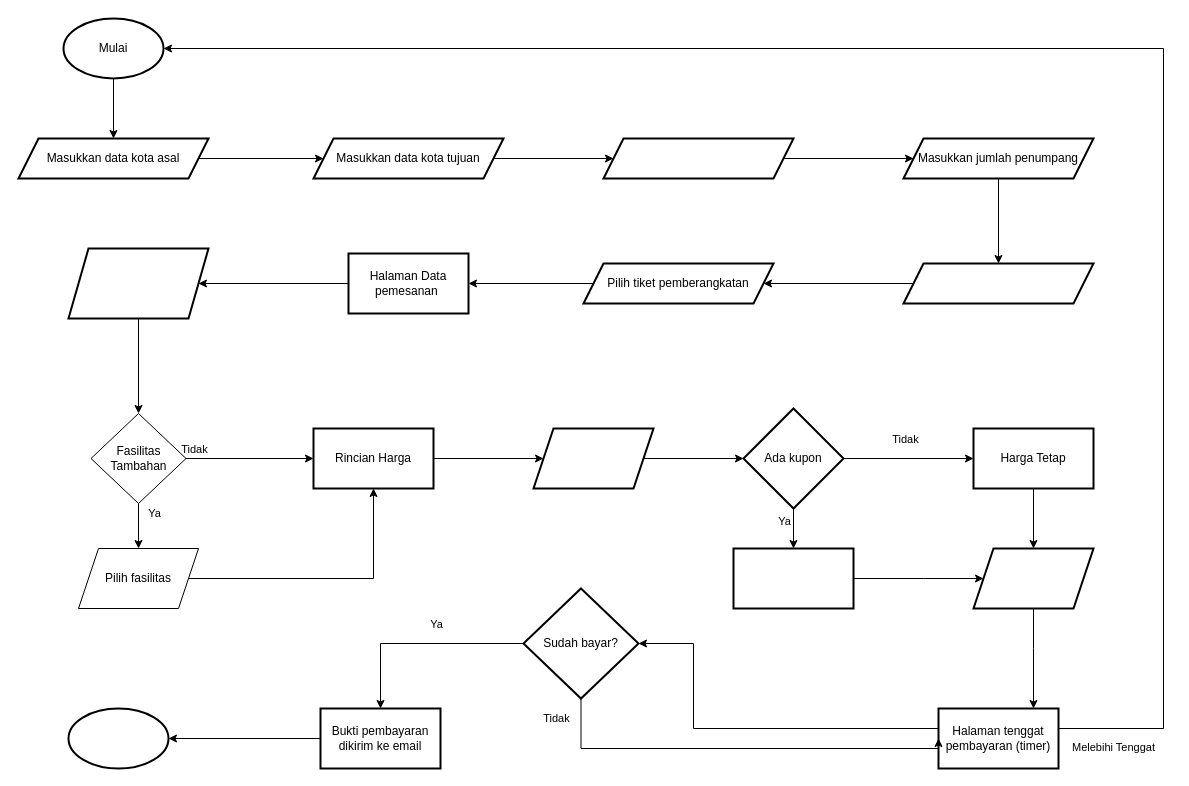
The diagram is 1189 pixels wide and 786 high, and some of its shapes have lost their labels. Here are the shapes that lost their labels. From the top down, the centre of each, then its label:
(698,158): Masukkan tanggal pergi
(138,283): Masukkan Data Diri
(998,283): Masukkan kelas penerbangan
(593,458): Pilih Metode Pembayaran
(793,578): Harga terpotong
(1033,578): Bayar
(118,738): selesai
